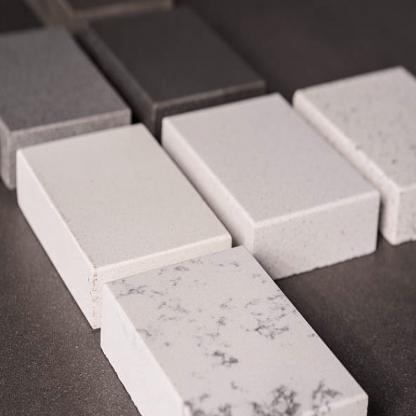Metamorphic_Marble: (5, 102, 248, 310), (97, 237, 377, 415), (169, 64, 384, 263), (0, 15, 150, 179), (294, 59, 415, 259), (86, 0, 264, 127)
